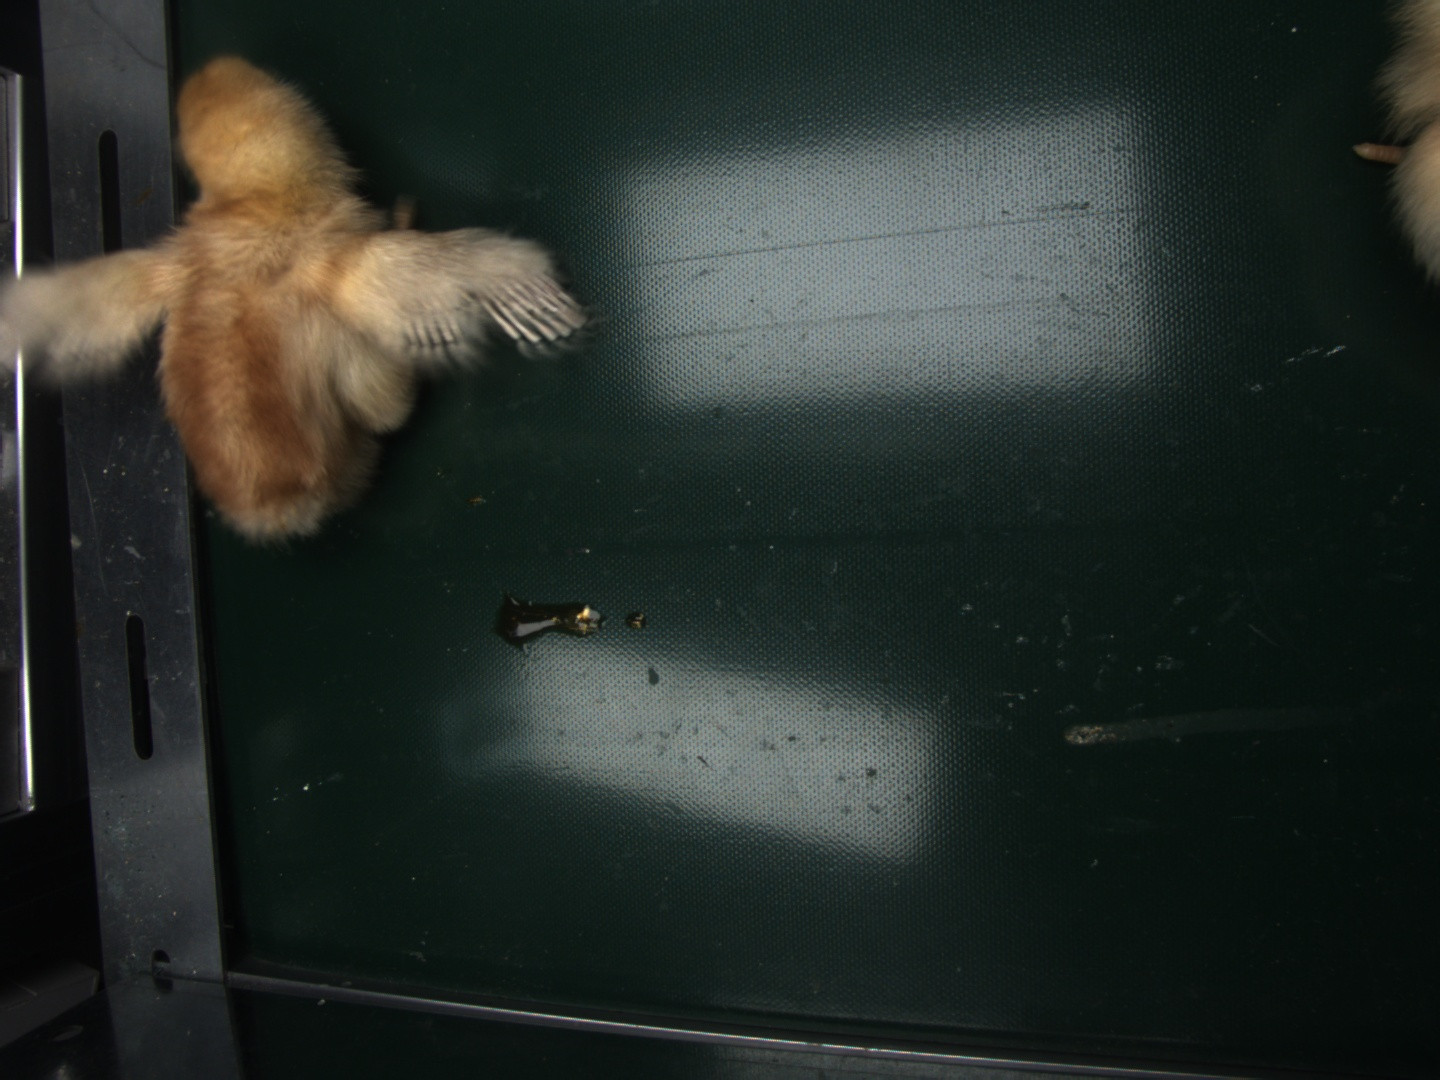female: (489, 277, 586, 349)
